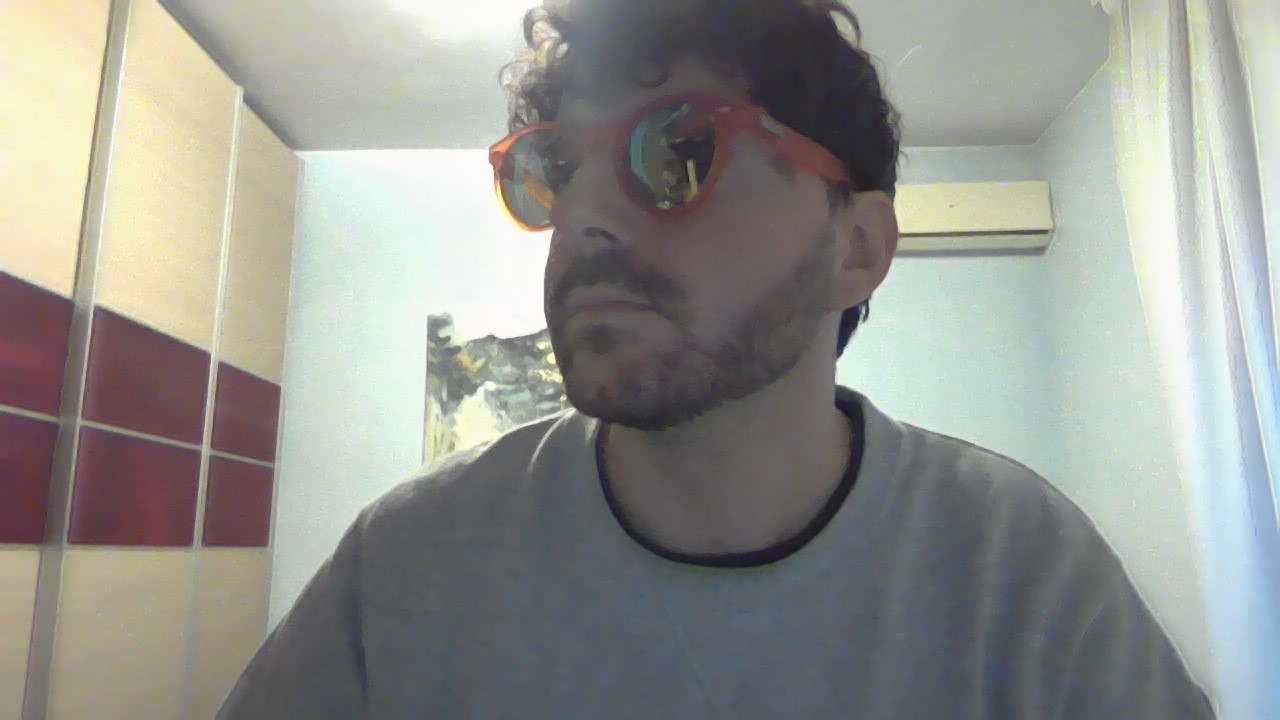Glasses: (472, 104, 899, 238)
